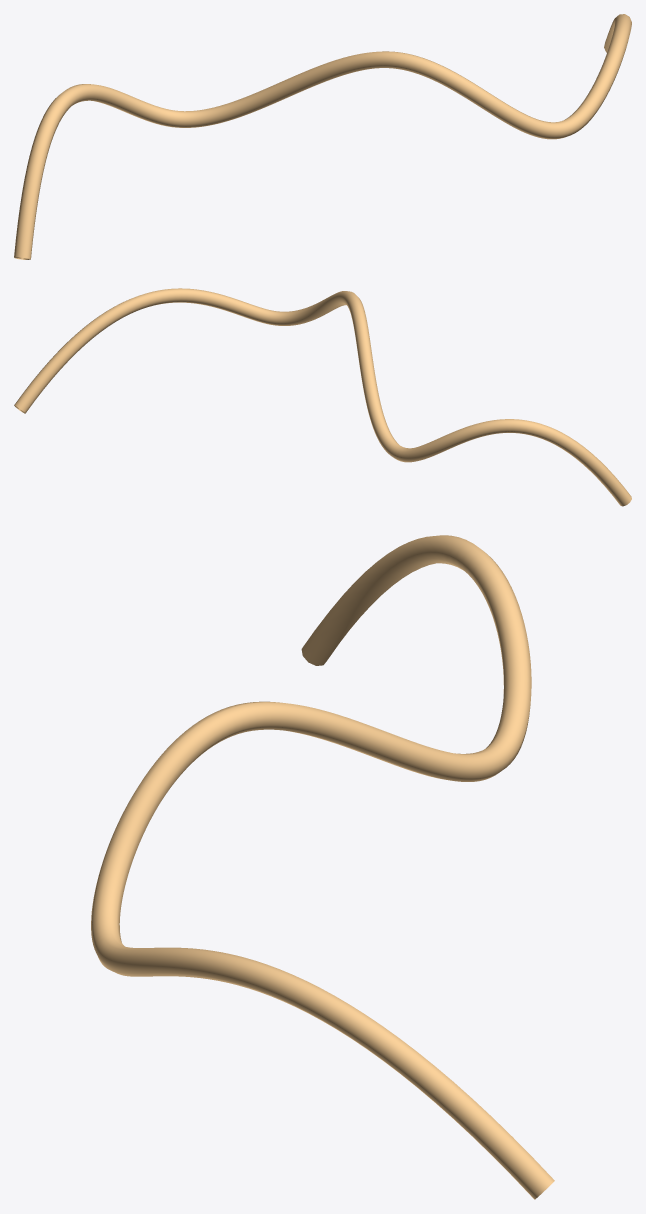
File: example.gltf
The picture shows the model from 3 angles, top to bottom: view 1: azimuth 30°, elevation 25°; view 2: azimuth 150°, elevation 25°; view 3: azimuth 270°, elevation 25°; orthographic projection. The views are drawn at different scales.
Parts seen in each view (by area): view 1: bspline; view 2: bspline; view 3: bspline.
Boxes of the visible parts, x1,y1,x2,y2 form: bspline: (14, 14, 631, 259); bspline: (14, 288, 631, 506); bspline: (91, 535, 554, 1199).
Size of the model in its own units: 4.49 by 0.92 by 1.61.
